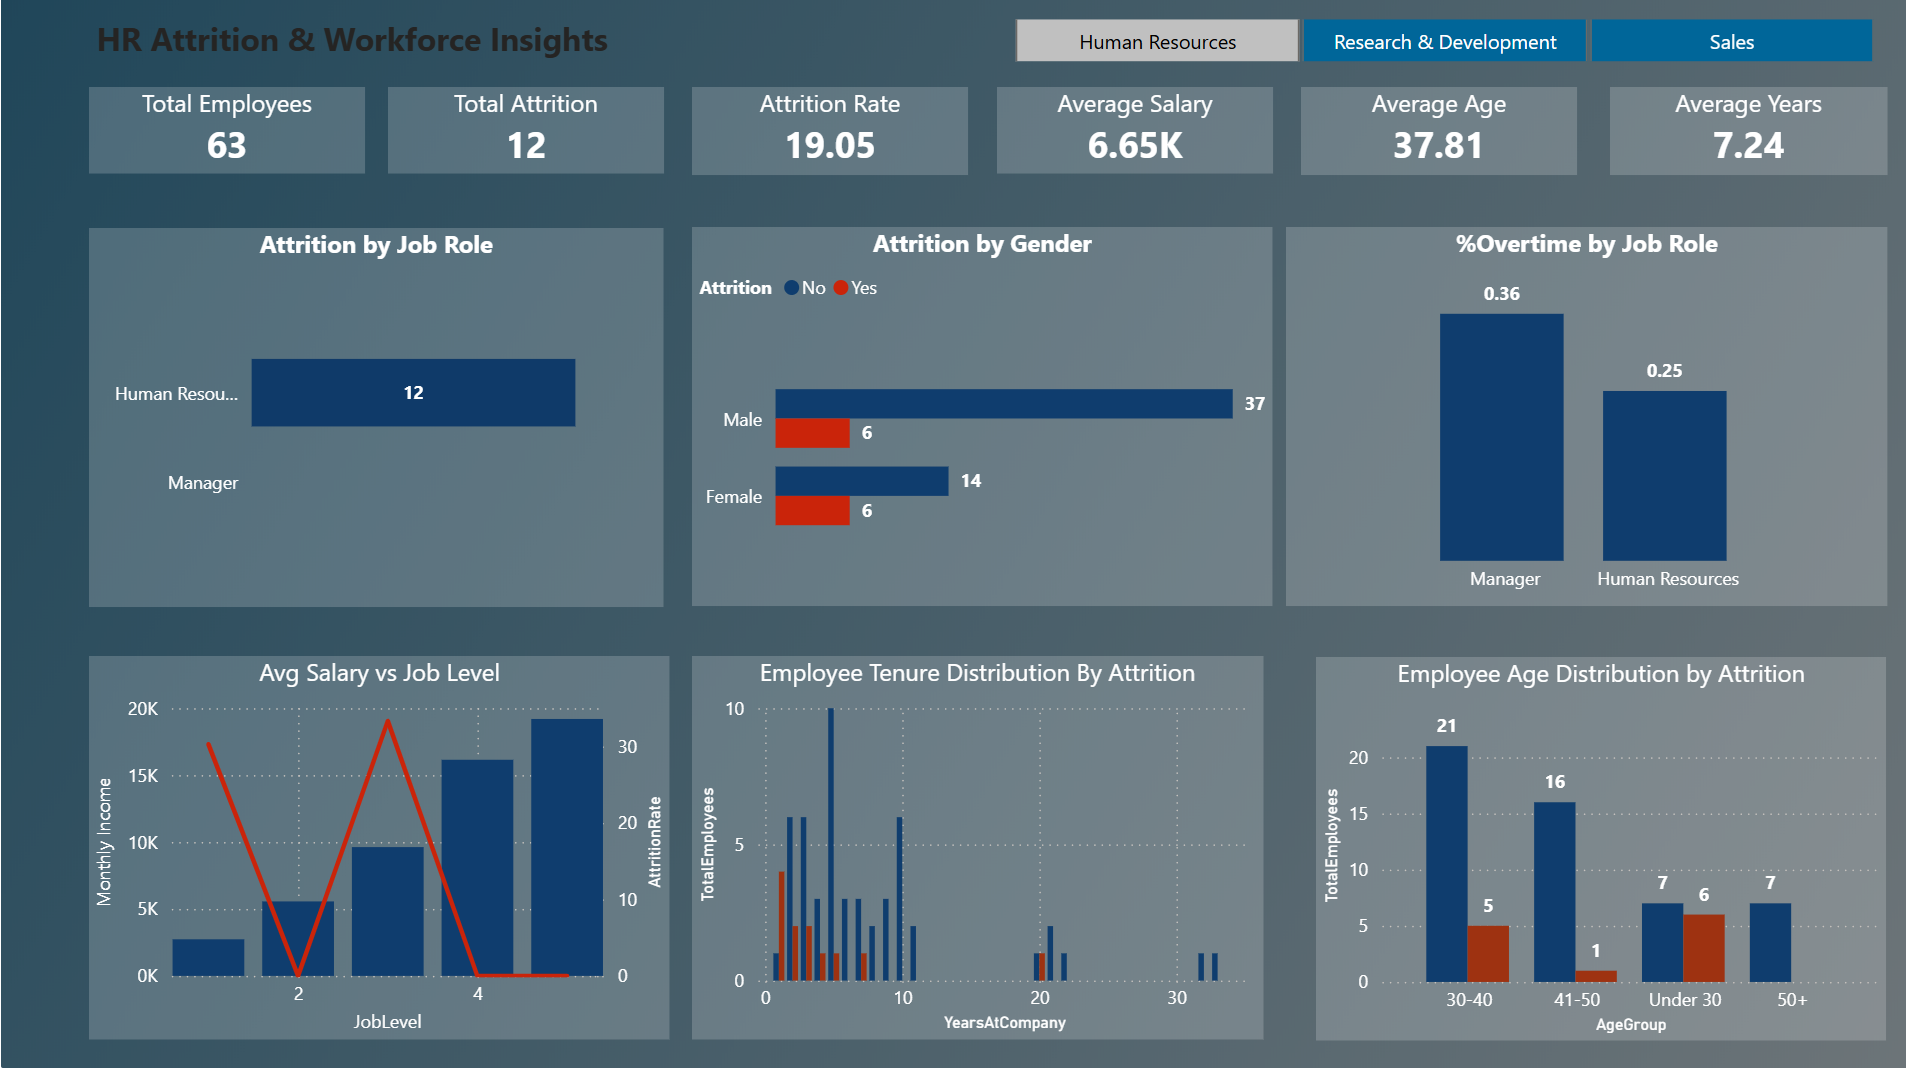

The dashboard page shown, as its layout file describes it:
{"tool":"powerbi","page":{"name":"HR attrition","canvas":[1280,720],"ordinal":0},"visuals":[{"type":"card","title":"Total Employees","fields":{"Values":["HR_DATA.TotalEmployees"]},"box":[59.7,61.4,184.9,57.9],"z":0},{"type":"card","title":"Attrition Rate","fields":{"Values":["HR_DATA.AttritionRate"]},"box":[463.6,61.4,184.9,58.8],"z":1000},{"type":"card","title":"Average Salary","fields":{"Values":["HR_DATA.AvgMonthlyIncome"]},"box":[668.1,61.4,184.9,57.9],"z":2000},{"type":"clusteredBarChart","title":"Attrition by Gender","fields":{"Category":["HR_DATA.Gender"],"Y":["HR_DATA.TotalEmployees"],"Series":["HR_DATA.Attrition"]},"box":[463.7,155.6,389.4,253.7],"z":3000},{"type":"barChart","title":"Attrition by Job Role","fields":{"Category":["HR_DATA.JobRole"],"Series":["HR_DATA.JobRole"],"Y":["Sum(HR_DATA.AttritionFlag)"]},"box":[59.7,156,385.2,254],"z":4000},{"type":"card","title":"Total Attrition","fields":{"Values":["HR_DATA.TotalAttrition"]},"box":[259.9,61.4,184.9,57.9],"z":5000},{"type":"card","title":"Average Years ","fields":{"Values":["HR_DATA.AvgYearsAtCompany"]},"box":[1078.9,61.4,185.8,58.8],"z":6000},{"type":"textbox","box":[59.8,9.2,543.4,42.2],"z":7000},{"type":"card","title":"Average Age","fields":{"Values":["HR_DATA.Average Age"]},"box":[871.8,61.4,184.9,58.8],"z":8000},{"type":"clusteredColumnChart","title":"%Overtime by Job Role","fields":{"Y":["HR_DATA.PercentOverTime"],"Category":["HR_DATA.JobRole"]},"box":[861.5,155.6,403.2,253.7],"z":9000},{"type":"lineClusteredColumnComboChart","title":"Avg Salary vs Job Level","fields":{"Y":["HR_DATA.AvgMonthlyIncome"],"Y2":["HR_DATA.AttritionRate"],"Category":["HR_DATA.Job Level Label"]},"box":[59.7,443.1,389.5,257.4],"z":10000},{"type":"clusteredColumnChart","title":"Employee Tenure Distribution By Attrition","fields":{"Category":["HR_DATA.YearsAtCompany"],"Y":["HR_DATA.TotalEmployees"],"Series":["HR_DATA.Attrition"]},"box":[463.6,443.1,382.6,256.5],"z":11000},{"type":"slicer","fields":{"Values":["HR_DATA.Department"]},"box":[654.6,9.2,625.4,42.2],"z":12000},{"type":"clusteredColumnChart","title":"Employee Age Distribution by Attrition","fields":{"Y":["HR_DATA.TotalEmployees"],"Series":["HR_DATA.Attrition"],"Category":["HR_DATA.AgeGroup"]},"box":[882.2,443.8,382.5,256.8],"z":13000}]}

Visuals, with their boxes in screenshot pixels (x1, y1, x2, y2), scaled from the page's 1280x720 canvas onto the 1906x1068 screenshot:
"Total Employees" card: detection(89, 91, 364, 177)
"Attrition Rate" card: detection(690, 91, 966, 178)
"Average Salary" card: detection(995, 91, 1270, 177)
"Attrition by Gender" clusteredBarChart: detection(690, 231, 1270, 607)
"Attrition by Job Role" barChart: detection(89, 231, 662, 608)
"Total Attrition" card: detection(387, 91, 662, 177)
"Average Years " card: detection(1607, 91, 1883, 178)
textbox: detection(89, 14, 898, 76)
"Average Age" card: detection(1298, 91, 1573, 178)
"%Overtime by Job Role" clusteredColumnChart: detection(1283, 231, 1883, 607)
"Avg Salary vs Job Level" lineClusteredColumnComboChart: detection(89, 657, 669, 1039)
"Employee Tenure Distribution By Attrition" clusteredColumnChart: detection(690, 657, 1260, 1038)
slicer - HR_DATA.Department: detection(975, 14, 1905, 76)
"Employee Age Distribution by Attrition" clusteredColumnChart: detection(1314, 658, 1883, 1039)
